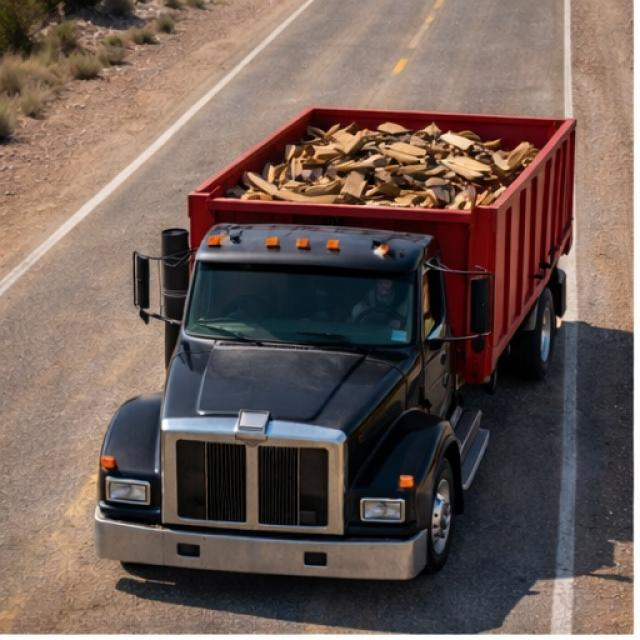Box: (198, 105, 572, 213)
Truck: (92, 88, 590, 605)
